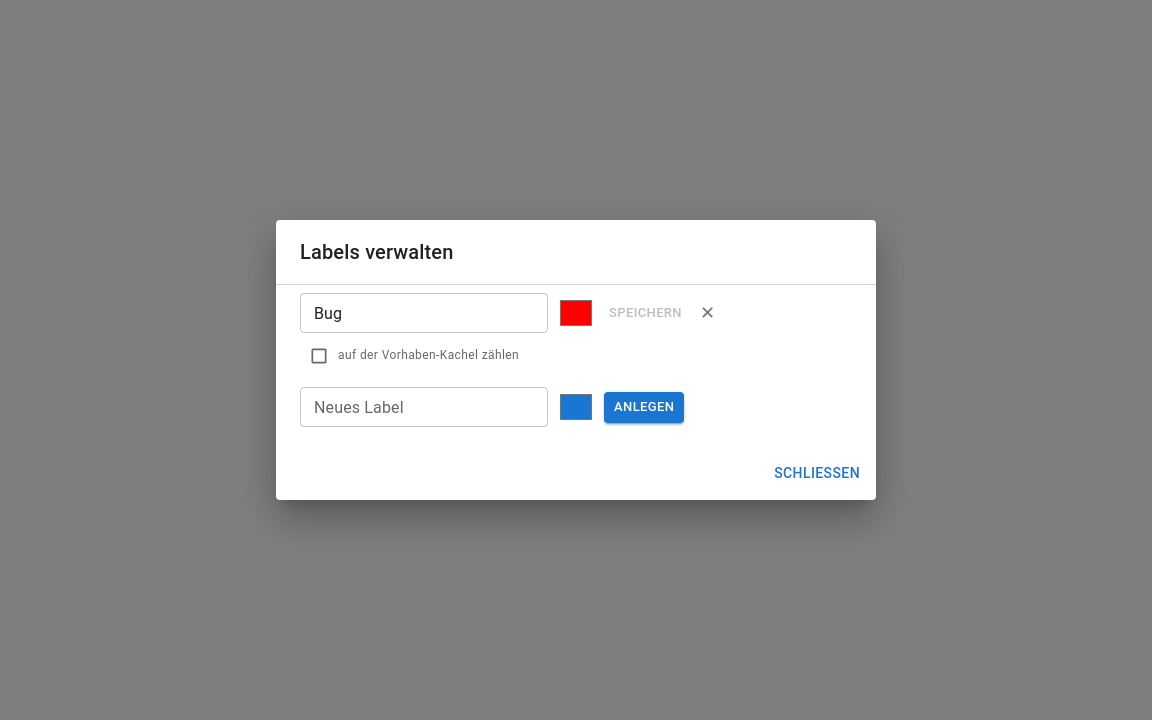
Test: LabelManagerDialog › save: fällt ohne API-Kontext auf den eigenen Text zurück
Replace the text in the field named "Label Bug" with "Defekt" at (424, 313), box [300,293,548,333]
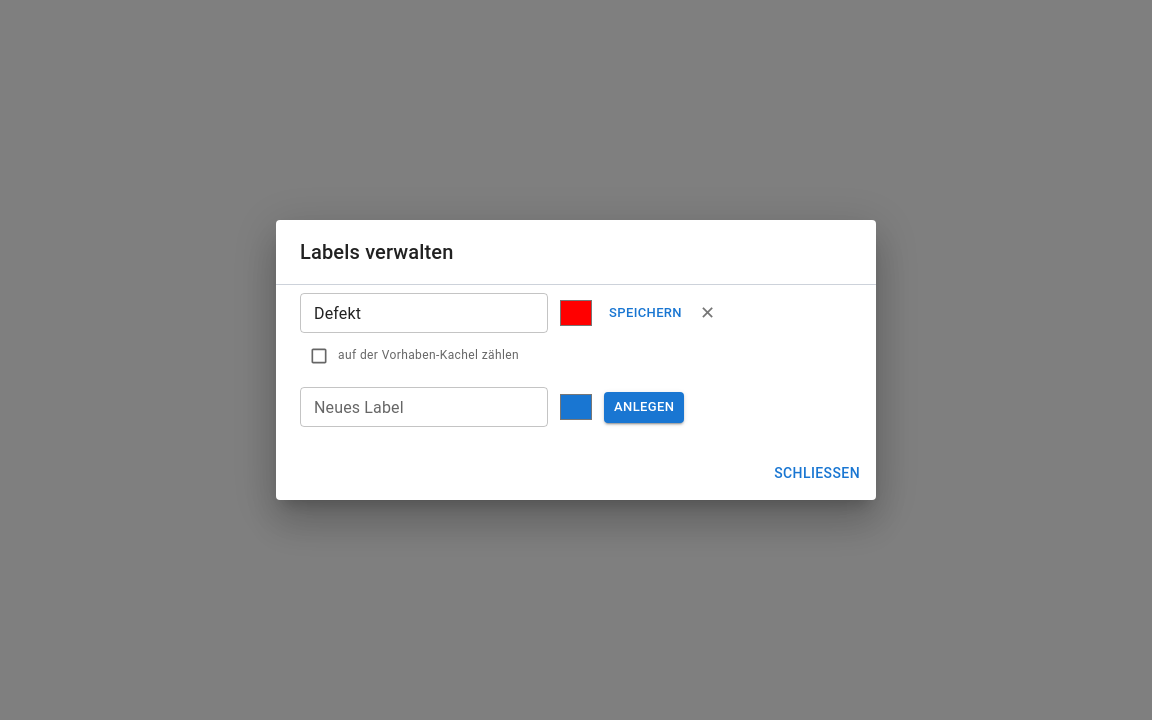
Click the button "Speichern".
click(646, 313)  # box [604,298,687,329]
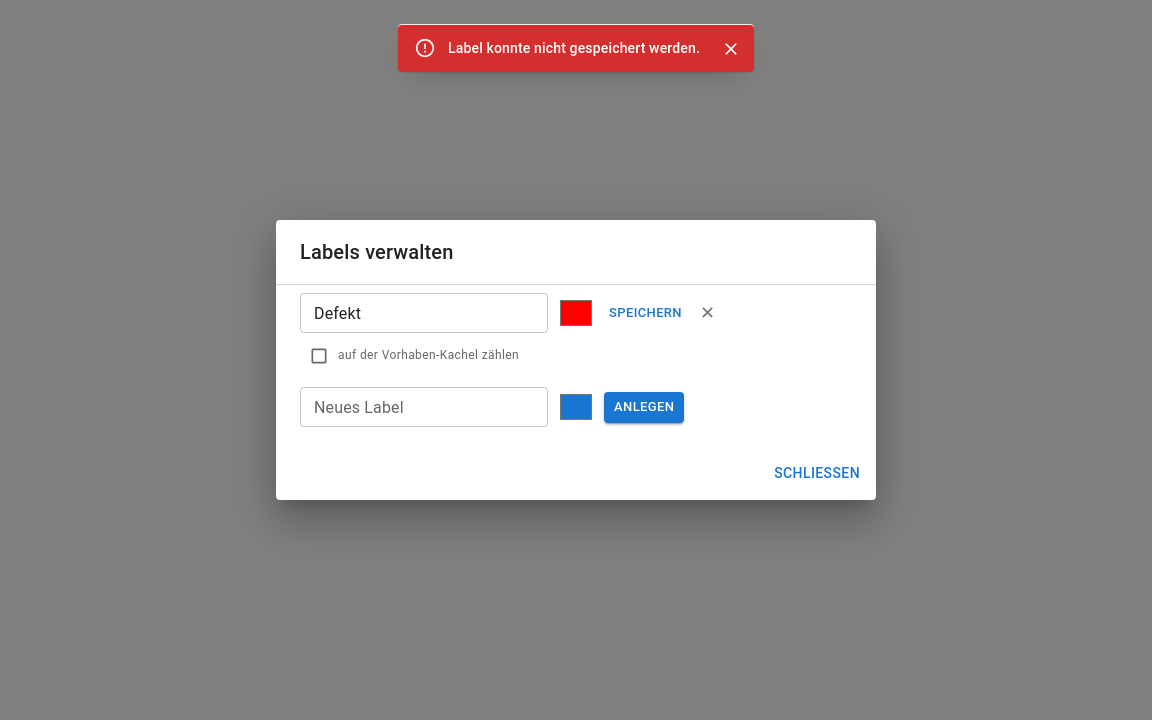
Expected: the text "Label konnte nicht gespeichert werden." is shown, [448,40,700,56]
